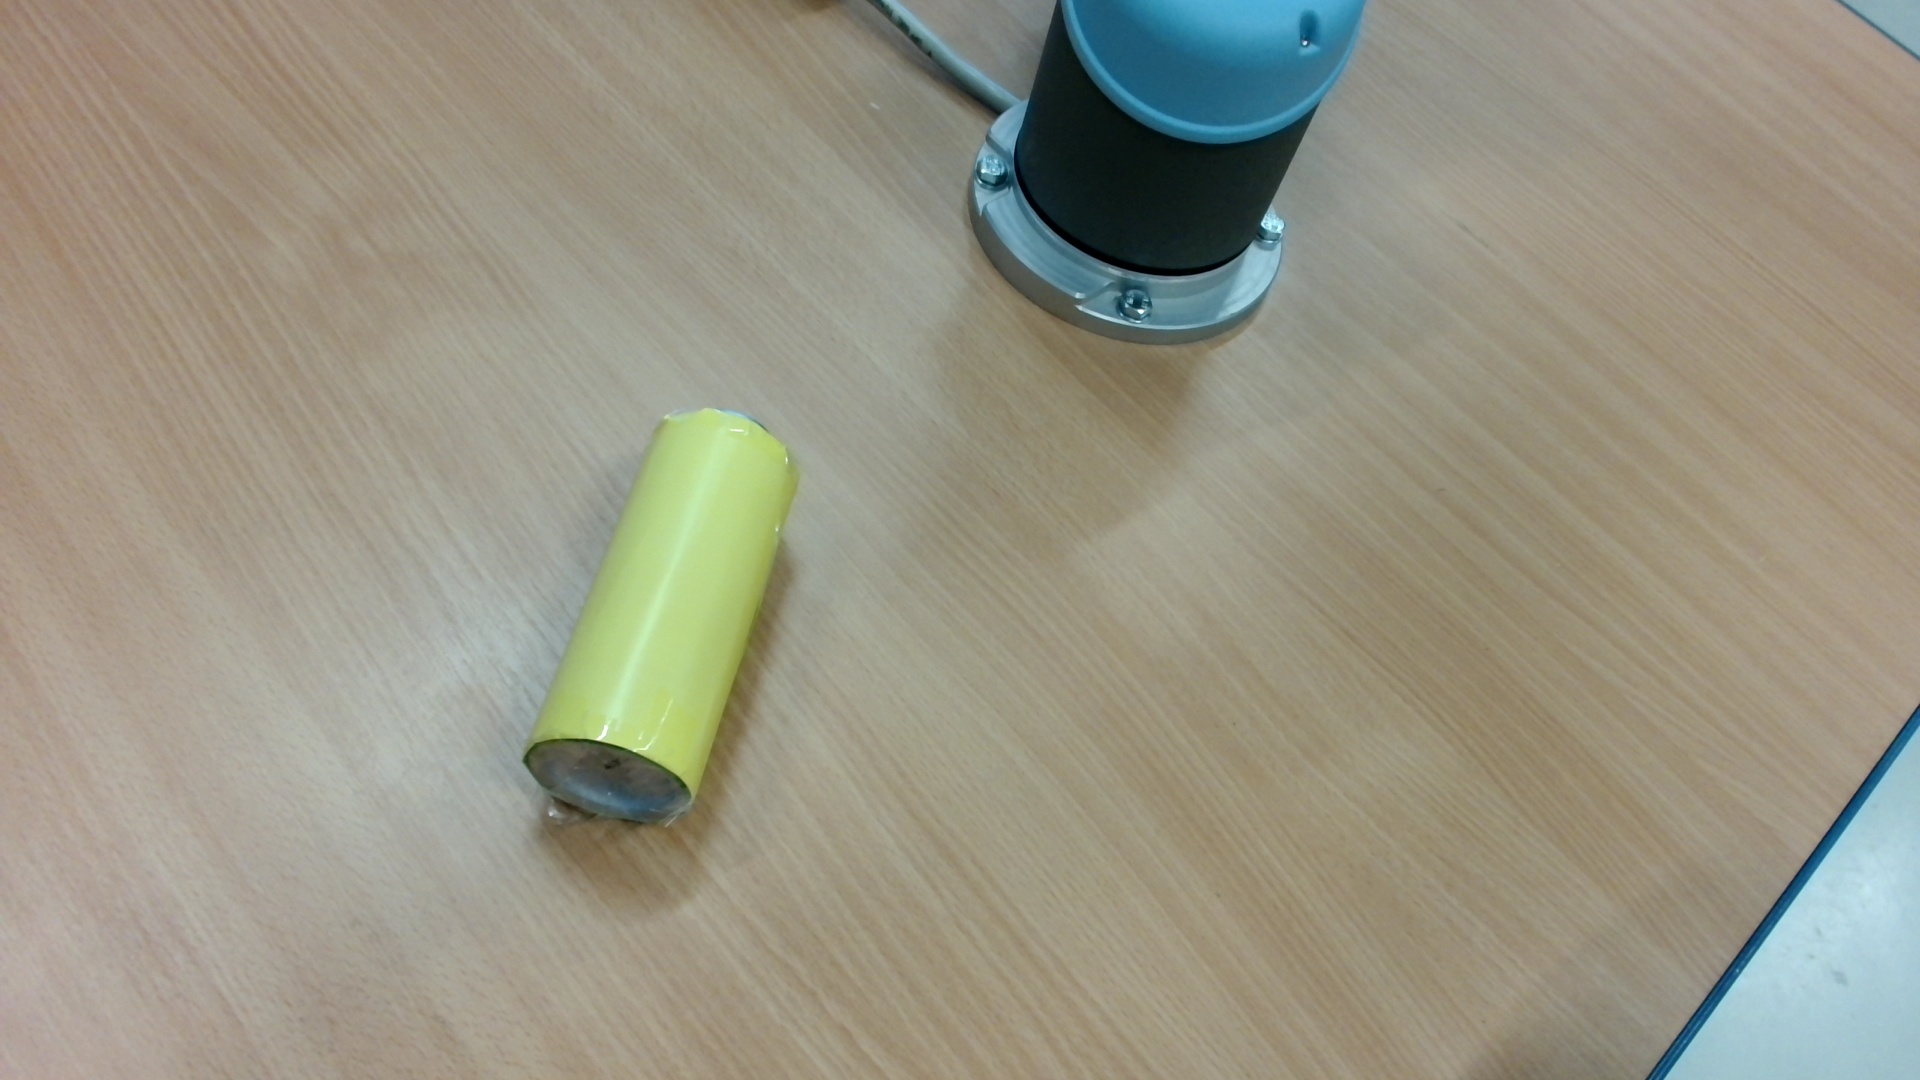Cylinder: (514, 393, 822, 836)
